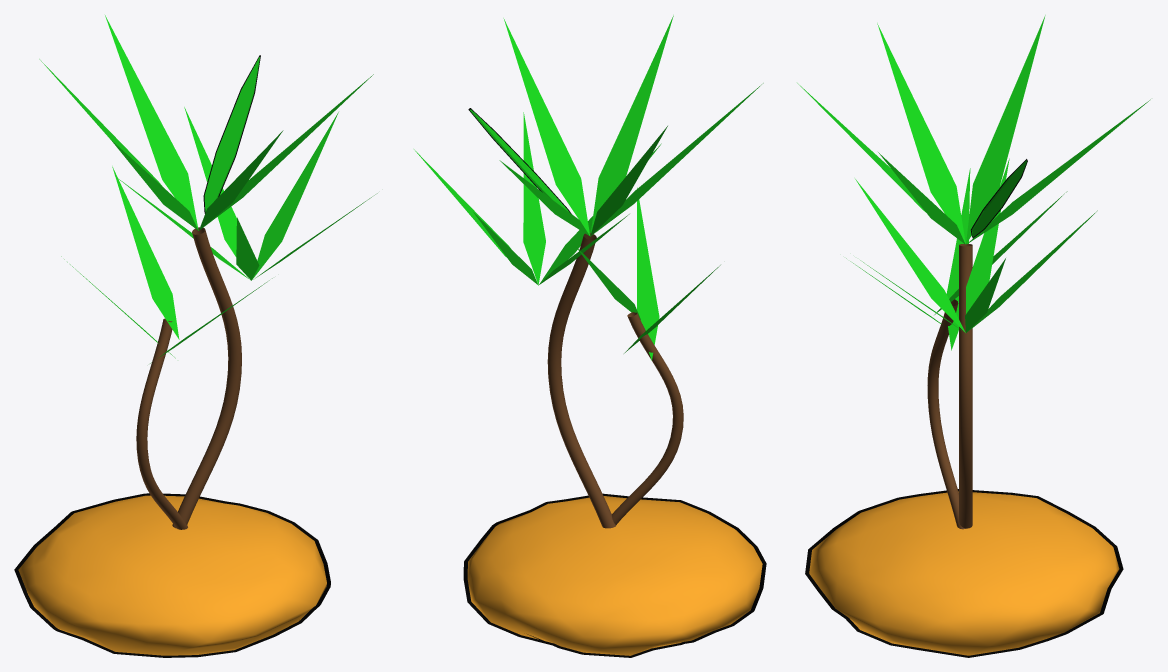
File: arbolitoPequeño.glb
The picture shows the model from 3 angles, left to right: view 1: azimuth 30°, elevation 25°; view 2: azimuth 150°, elevation 25°; view 3: azimuth 270°, elevation 25°; orthographic projection.
Parts seen in each view (by area): view 1: Monticulo, Tronco_1, Palma1_hoja_0, Tronco_2, Palma1_hoja_5, Palma2_hoja_0.001, Palma2_hoja_4, Palma1_hoja_3, Palma1_hoja_4, Palma2_hoja_0, Palma1_hoja_2, Palma2_hoja_2 (+1 smaller); view 2: Monticulo, Tronco_1, Palma1_hoja_4, Palma1_hoja_3, Tronco_2, Palma2_hoja_3, Palma2_hoja_3.001, Palma1_hoja_1, Palma1_hoja_2, Palma1_hoja_5, Palma1_hoja_0, Palma2_hoja_2 (+3 smaller); view 3: Monticulo, Tronco_1, Palma1_hoja_1, Palma1_hoja_2, Tronco_2, Palma2_hoja_2, Palma2_hoja_1, Palma1_hoja_0, Palma1_hoja_5, Palma2_hoja_4.001, Palma1_hoja_4, Palma2_hoja_4 (+2 smaller).
Part boxes in pixels (box(x1,y1,x2,y2)): Monticulo: box(14, 493, 330, 657); Tronco_1: box(172, 227, 241, 528); Palma1_hoja_0: box(105, 15, 198, 230); Tronco_2: box(136, 318, 187, 529); Palma1_hoja_5: box(203, 55, 260, 213); Palma2_hoja_0.001: box(112, 166, 179, 339); Palma2_hoja_4: box(252, 112, 338, 279); Palma1_hoja_3: box(199, 130, 283, 230); Palma1_hoja_4: box(201, 74, 373, 228); Palma2_hoja_0: box(184, 107, 236, 256); Palma1_hoja_2: box(110, 139, 198, 230); Palma2_hoja_2: box(236, 217, 259, 280); Monticulo: box(463, 493, 766, 657); Tronco_1: box(547, 233, 615, 528); Palma1_hoja_4: box(503, 18, 589, 235); Palma1_hoja_3: box(590, 15, 673, 235); Tronco_2: box(612, 312, 683, 524); Palma2_hoja_3: box(523, 112, 545, 284); Palma2_hoja_3.001: box(637, 187, 659, 360); Palma1_hoja_1: box(590, 126, 667, 235); Palma1_hoja_2: box(591, 83, 763, 235); Palma1_hoja_5: box(468, 108, 571, 213); Palma1_hoja_0: box(499, 160, 589, 235); Palma2_hoja_2: box(539, 143, 661, 284); Monticulo: box(805, 489, 1123, 657); Tronco_1: box(959, 244, 972, 528); Palma1_hoja_1: box(966, 15, 1045, 244); Palma1_hoja_2: box(877, 23, 965, 243); Tronco_2: box(927, 299, 965, 529); Palma2_hoja_2: box(855, 179, 965, 332); Palma2_hoja_1: box(966, 158, 1009, 313); Palma1_hoja_0: box(967, 99, 1150, 243); Palma1_hoja_5: box(970, 159, 1027, 238); Palma2_hoja_4.001: box(946, 168, 970, 350); Palma1_hoja_4: box(878, 152, 965, 244); Palma2_hoja_4: box(965, 258, 1005, 332).
Bounding box in the file's own units: 1.34 × 2.24 × 1.3.
